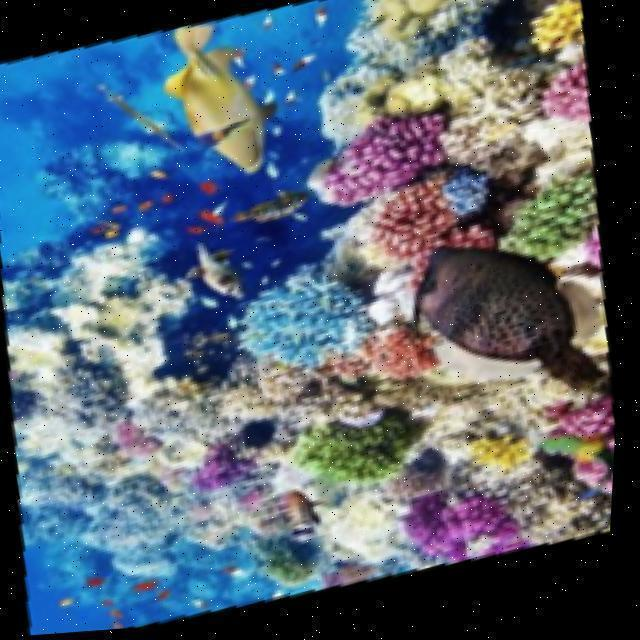Healthy Coral: (216, 231, 391, 406), (267, 377, 444, 521), (296, 93, 476, 225), (490, 149, 640, 307), (378, 459, 534, 592), (524, 375, 623, 533), (358, 164, 482, 284), (228, 511, 352, 617), (177, 426, 286, 543), (520, 57, 613, 158), (451, 407, 547, 502), (512, 0, 598, 75), (102, 405, 167, 487)
